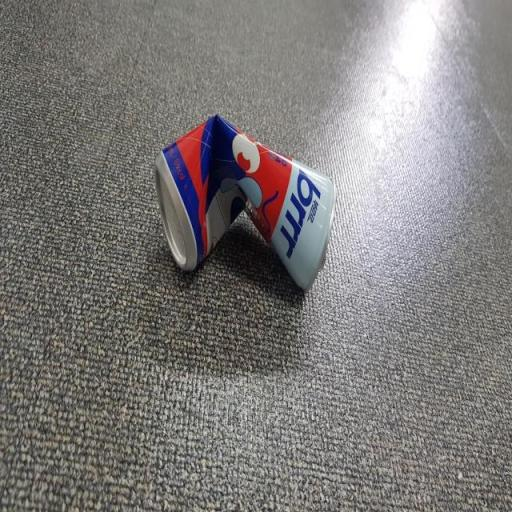metal: (150, 99, 342, 341)
